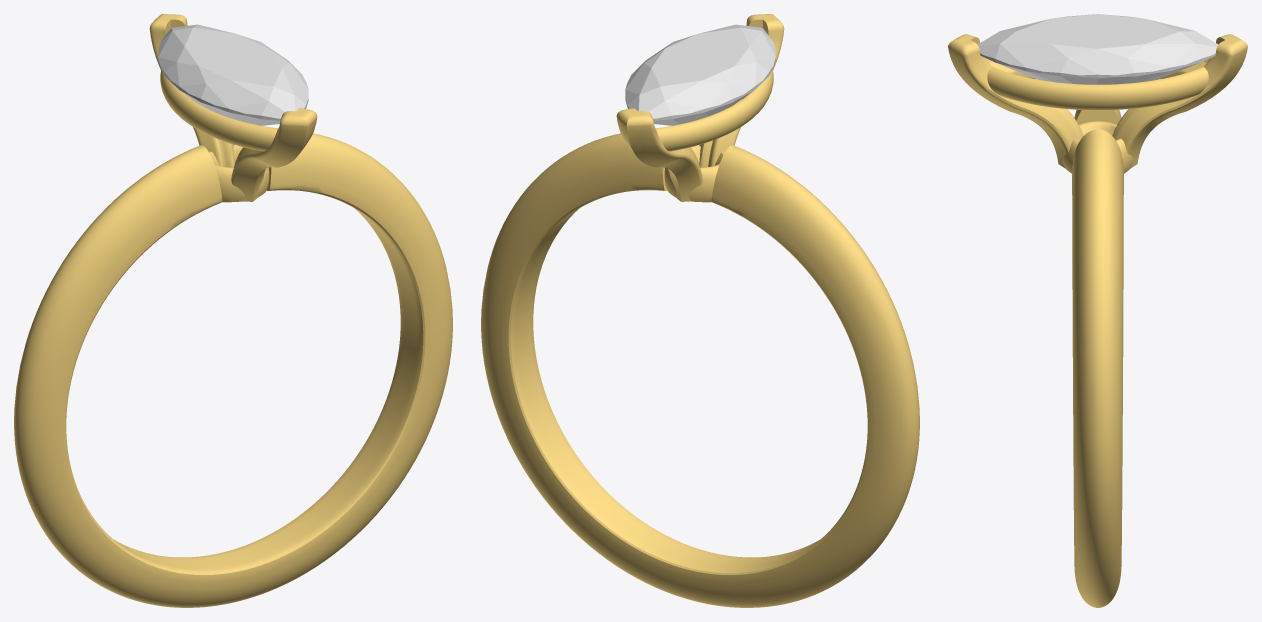
The model's file is DanYG4prongEng_blender.glb.
The picture shows the model from 3 angles, left to right: view 1: azimuth 30°, elevation 25°; view 2: azimuth 150°, elevation 25°; view 3: azimuth 270°, elevation 25°; orthographic projection.
Parts seen in each view (by area): view 1: Dan YG for 3d model, Dan dia for 3d model; view 2: Dan YG for 3d model, Dan dia for 3d model; view 3: Dan YG for 3d model, Dan dia for 3d model.
Boxes of the visible parts, left/top/right/bottom form: Dan YG for 3d model: left=14, top=14, right=452, bottom=607; Dan dia for 3d model: left=158, top=24, right=308, bottom=125; Dan YG for 3d model: left=481, top=14, right=919, bottom=607; Dan dia for 3d model: left=625, top=24, right=775, bottom=125; Dan YG for 3d model: left=948, top=34, right=1247, bottom=607; Dan dia for 3d model: left=977, top=14, right=1218, bottom=84.
Size of the model in its own units: 19.7 by 23.55 by 11.59.
